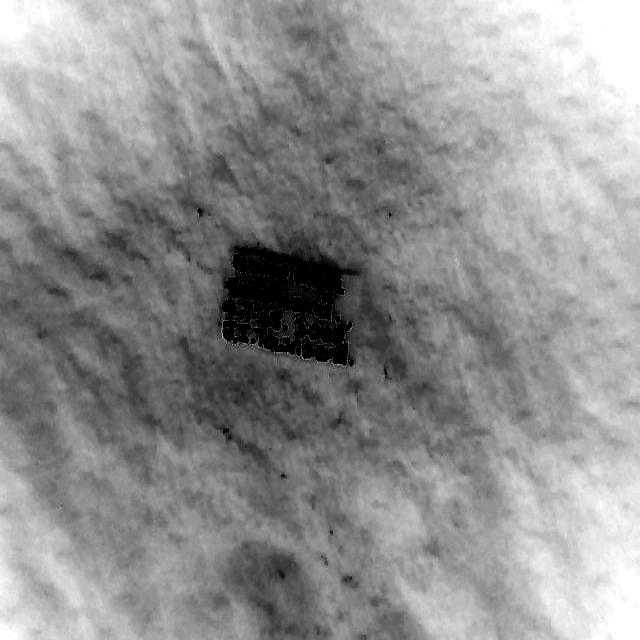hand_label: (220, 250, 357, 366)
